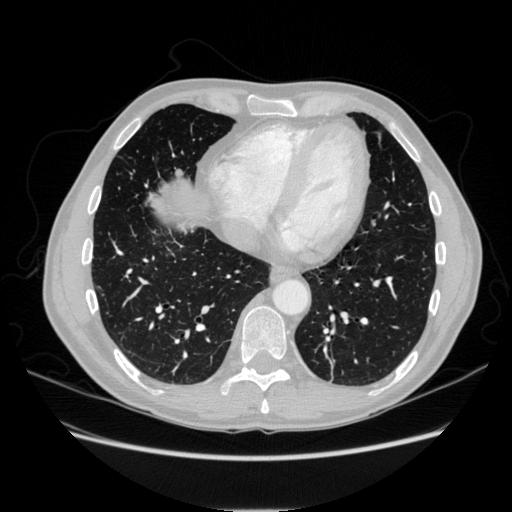nodule: (173, 167, 184, 178)
